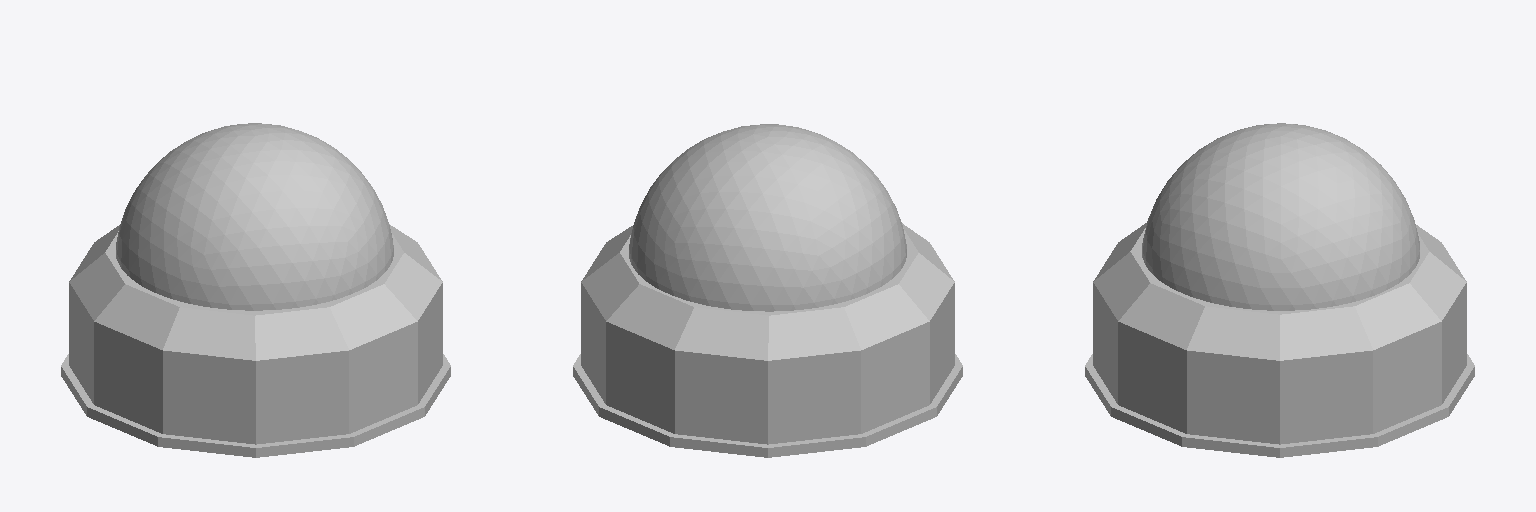
File: camera.obj
3 renders of one model, left to right at view 1: azimuth 30°, elevation 25°; view 2: azimuth 150°, elevation 25°; view 3: azimuth 270°, elevation 25°, orthographic.
Parts seen in each view (by area): view 1: Cylinder_Cylinder.002; view 2: Cylinder_Cylinder.002; view 3: Cylinder_Cylinder.002.
Part boxes in pixels (left/top/right/bottom): Cylinder_Cylinder.002: left=61, top=123, right=450, bottom=457; Cylinder_Cylinder.002: left=573, top=124, right=962, bottom=457; Cylinder_Cylinder.002: left=1085, top=123, right=1474, bottom=457.
Bounding box in the file's own units: 1.11 × 0.7534 × 1.11.